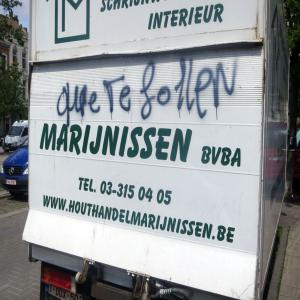Vehicle-registration-plate: (47, 284, 83, 299), (6, 180, 17, 186)
